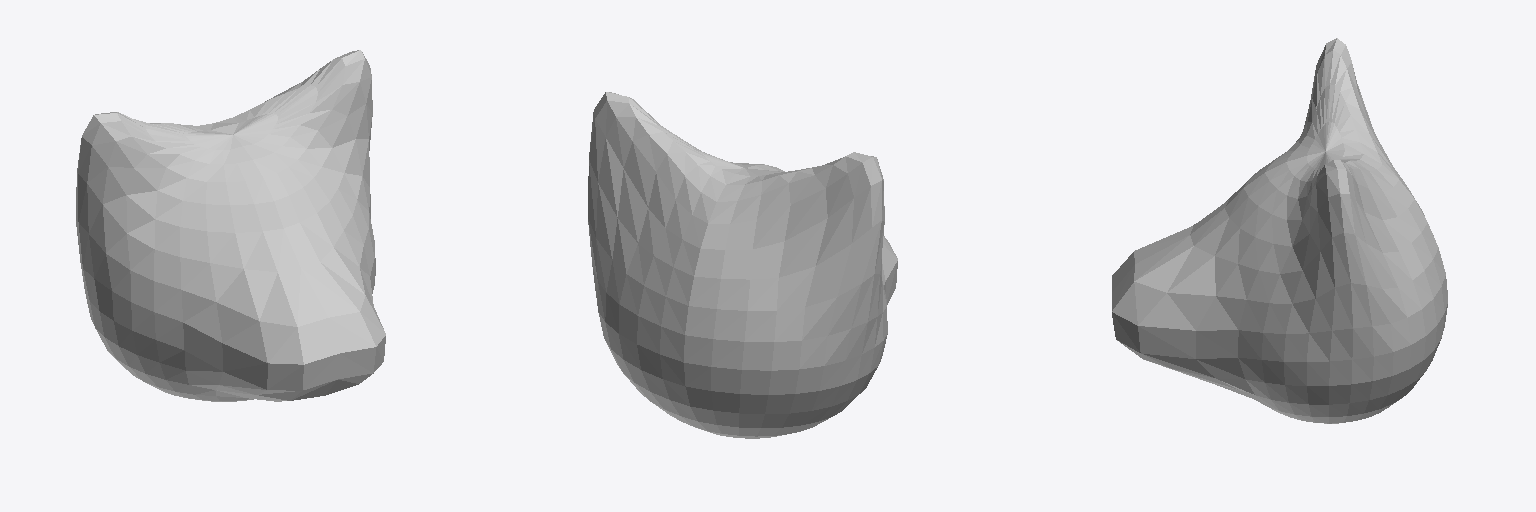
The model's file is player.obj.
3 renders of one model, left to right at view 1: azimuth 30°, elevation 25°; view 2: azimuth 150°, elevation 25°; view 3: azimuth 270°, elevation 25°, orthographic.
Parts seen in each view (by area): view 1: Sphere; view 2: Sphere; view 3: Sphere.
Boxes of the visible parts, <box> form: Sphere: <box>76,50,385,401</box>; Sphere: <box>588,92,897,438</box>; Sphere: <box>1112,38,1447,423</box>.
Size of the model in its own units: 1 by 1 by 1.